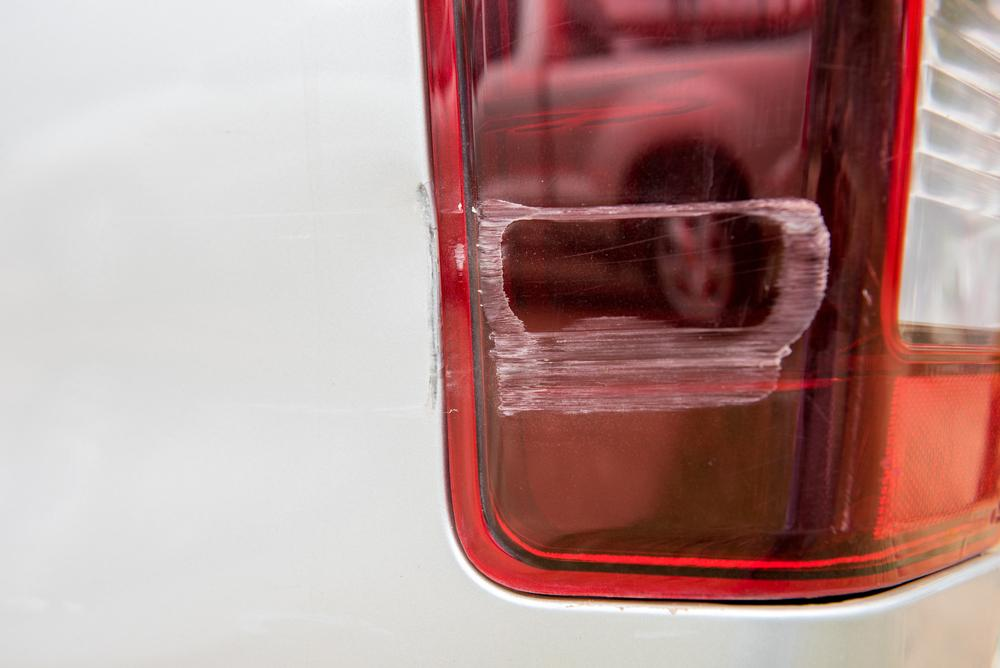scratch: (472, 195, 839, 423), (413, 179, 443, 422)
